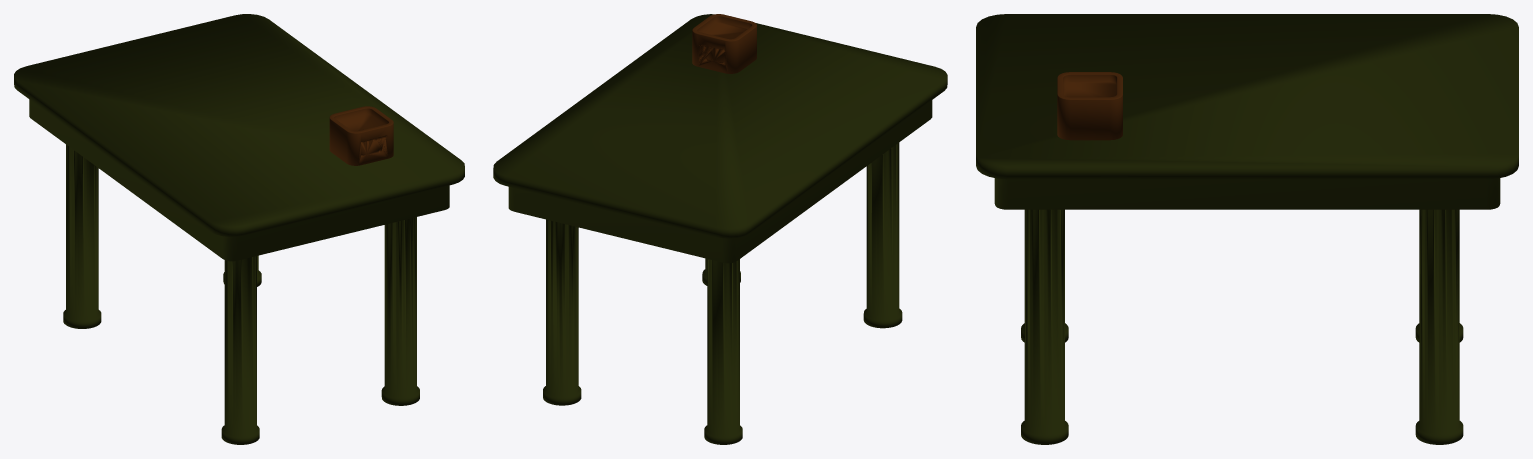
File: furniture_table.fbx
The picture shows the model from 3 angles, left to right: view 1: azimuth 30°, elevation 25°; view 2: azimuth 150°, elevation 25°; view 3: azimuth 270°, elevation 25°; orthographic projection. The views are drawn at different scales.
Parts seen in each view (by area): view 1: Cube, Cube.001; view 2: Cube, Cube.001; view 3: Cube, Cube.001.
Boxes of the visible parts, x1,y1,x2,y2 form: Cube: [14, 14, 464, 444]; Cube.001: [329, 106, 393, 165]; Cube: [493, 14, 947, 444]; Cube.001: [692, 14, 756, 73]; Cube: [976, 14, 1518, 444]; Cube.001: [1057, 72, 1122, 140].
Bounding box in the file's own units: 206 × 212 × 310.
